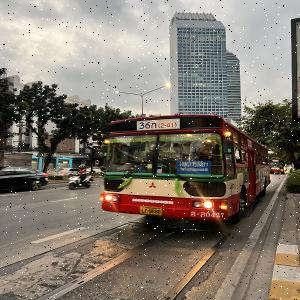BMTA-bus: (99, 114, 271, 224)
Bus Line Number: (136, 119, 180, 131)
Bus Side Number: (187, 210, 226, 221)
Destination Sign: (177, 161, 211, 174)
